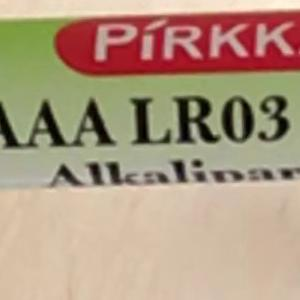keyword: (40, 152, 136, 197)
